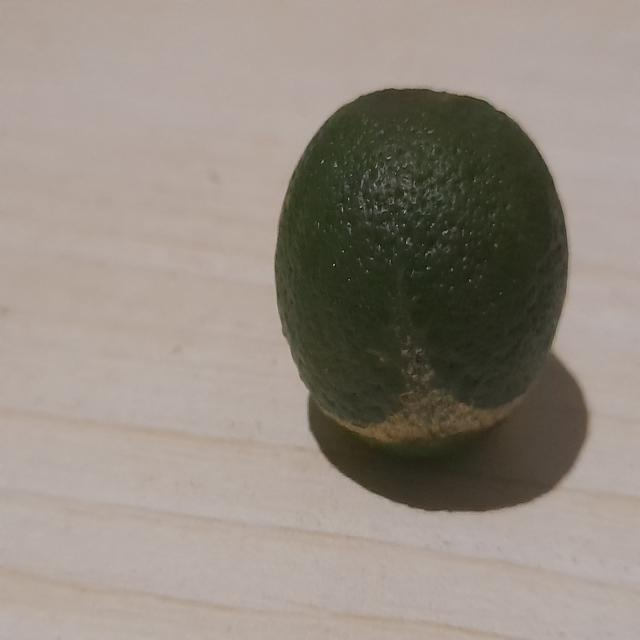thrips: (277, 81, 572, 478)
